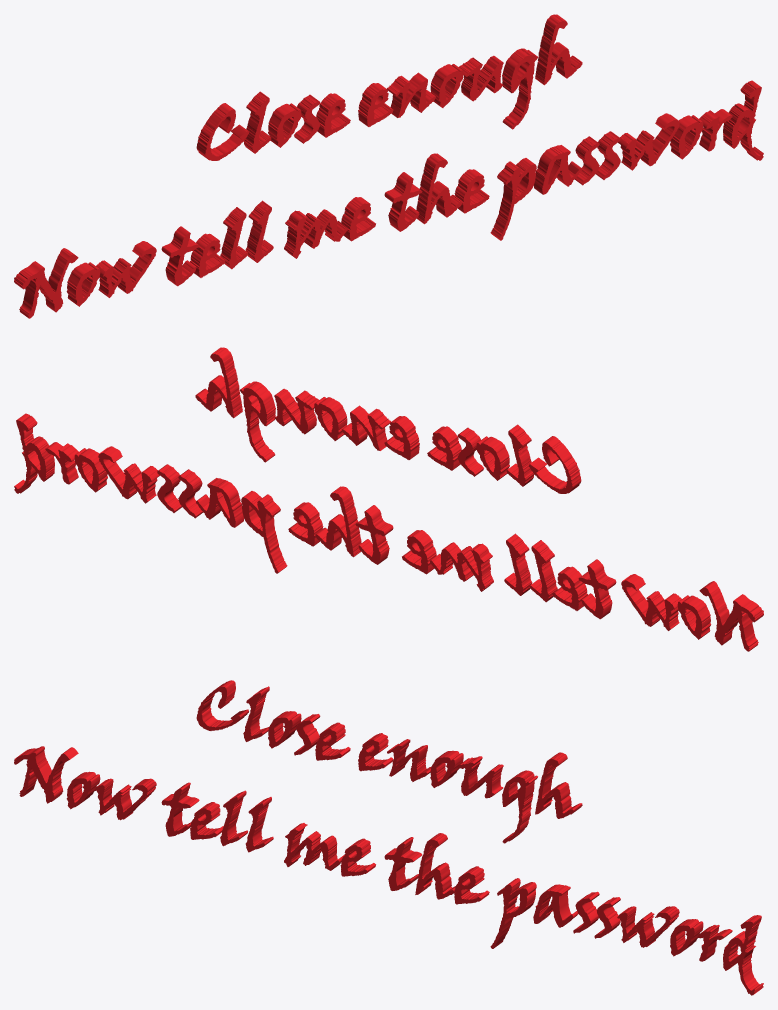
File: closeEnoughLevel4Message.fbx
3 views of the same model, one above another, from view 1: azimuth 30°, elevation 25°; view 2: azimuth 150°, elevation 25°; view 3: azimuth 330°, elevation 25° (orthographic).
Parts seen in each view (by area): view 1: node_id87 (×2); view 2: node_id87 (×2); view 3: node_id87 (×2).
Part boxes in pixels (<box>): node_id87 (×2): <box>14,14,763,318</box>; node_id87 (×2): <box>14,347,763,651</box>; node_id87 (×2): <box>14,680,763,995</box>.
Size of the model in its own units: 0.9096 by 0.2402 by 0.0188.
